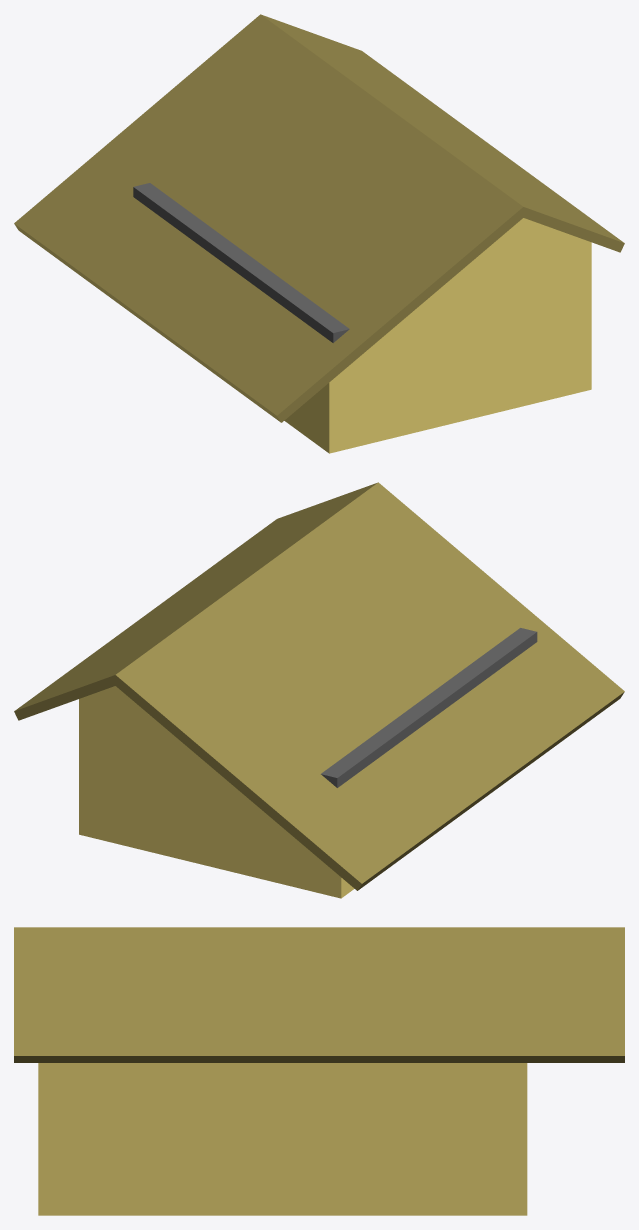
File: result.glb
The picture shows the model from 3 angles, top to bottom: view 1: azimuth 30°, elevation 25°; view 2: azimuth 150°, elevation 25°; view 3: azimuth 270°, elevation 25°; orthographic projection. The views are drawn at different scales.
Visible parts, largest first — view 1: 45fef71b-9717-4105-a6ed-da71f4c38684__undefined (×2), 0263832a-d783-4f15-81f0-5345f4a55254__undefined, 8fa14e7b-cff1-431b-b7c0-1ae6f10cd83b__Box; view 2: 45fef71b-9717-4105-a6ed-da71f4c38684__undefined (×2), 0263832a-d783-4f15-81f0-5345f4a55254__undefined, 8fa14e7b-cff1-431b-b7c0-1ae6f10cd83b__Box; view 3: 45fef71b-9717-4105-a6ed-da71f4c38684__undefined, 0263832a-d783-4f15-81f0-5345f4a55254__undefined.
Boxes of the visible parts, x1,y1,x2,y2 form: 45fef71b-9717-4105-a6ed-da71f4c38684__undefined (×2): [14, 14, 624, 422]; 0263832a-d783-4f15-81f0-5345f4a55254__undefined: [284, 218, 591, 453]; 8fa14e7b-cff1-431b-b7c0-1ae6f10cd83b__Box: [133, 183, 349, 342]; 45fef71b-9717-4105-a6ed-da71f4c38684__undefined (×2): [14, 482, 624, 890]; 0263832a-d783-4f15-81f0-5345f4a55254__undefined: [79, 686, 354, 898]; 8fa14e7b-cff1-431b-b7c0-1ae6f10cd83b__Box: [321, 628, 537, 787]; 45fef71b-9717-4105-a6ed-da71f4c38684__undefined: [14, 927, 624, 1062]; 0263832a-d783-4f15-81f0-5345f4a55254__undefined: [38, 1063, 527, 1215].
Bounding box in the file's own units: 955 × 550 × 1250.
